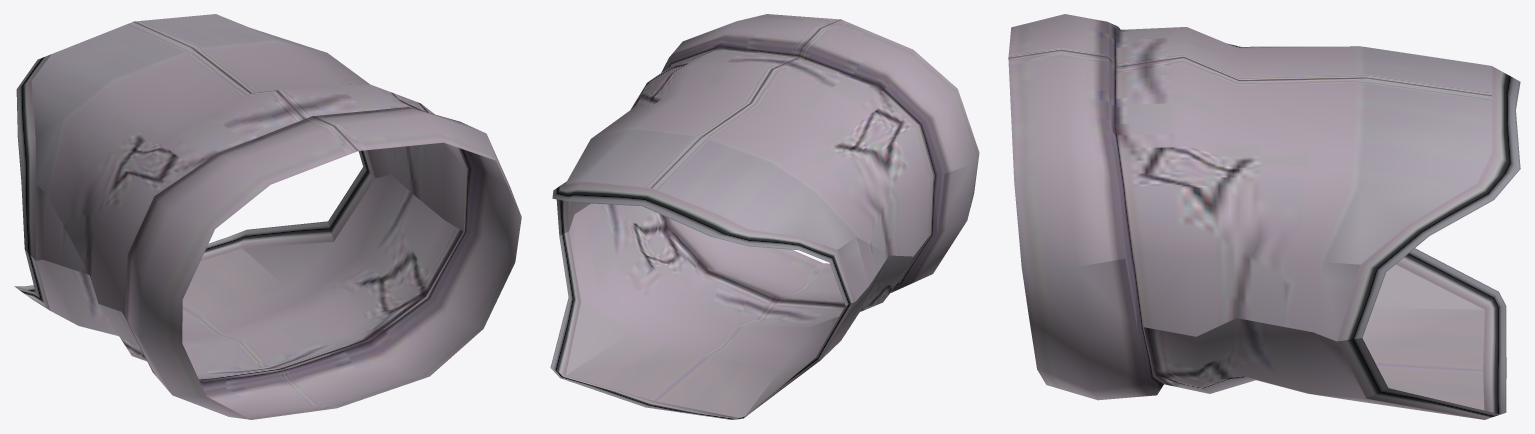
File: ANBUSet.FBX
3 renders of one model, left to right at view 1: azimuth 30°, elevation 25°; view 2: azimuth 150°, elevation 25°; view 3: azimuth 270°, elevation 25°, orthographic. The views are drawn at different scales.
Parts seen in each view (by area): view 1: Object01; view 2: Object01; view 3: Object01.
Part boxes in pixels (<box>): Object01: <box>14,14,521,419</box>; Object01: <box>550,14,979,419</box>; Object01: <box>1008,14,1520,419</box>.
Bounding box in the file's own units: 48.13 × 53.9 × 37.24.
